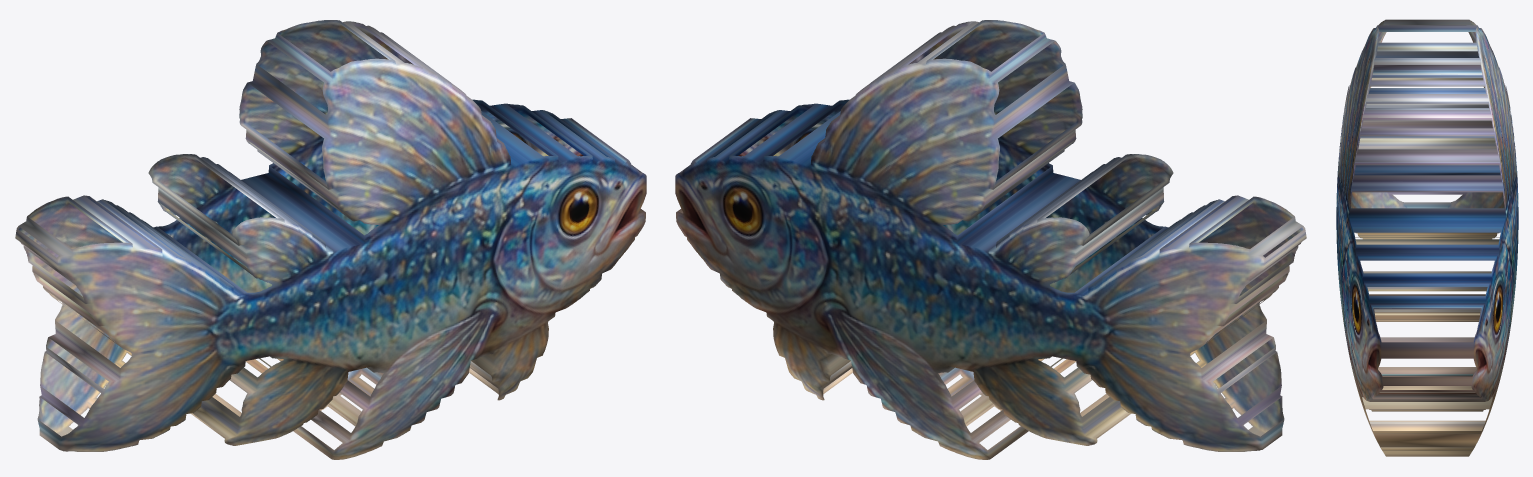
3 views of the same model, side by side, from view 1: azimuth 30°, elevation 25°; view 2: azimuth 150°, elevation 25°; view 3: azimuth 270°, elevation 25° (orthographic). The views are drawn at different scales.
Visible parts, largest first — view 1: organisms:0; view 2: organisms:0; view 3: organisms:0.
Part boxes in pixels (box(x1,y1,x2,y2)): organisms:0: box(15, 20, 646, 459); organisms:0: box(675, 20, 1306, 459); organisms:0: box(1336, 19, 1518, 456).
Size of the model in its own units: 1.46 by 0.9444 by 0.42.
Materials: 1 (1 with a texture image).
